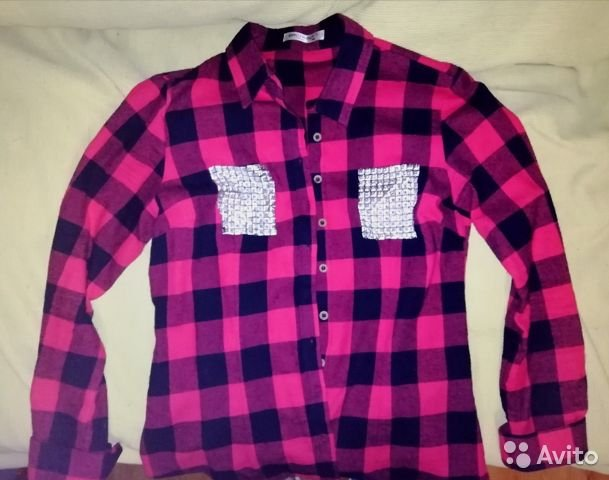squared: (30, 16, 593, 474)
